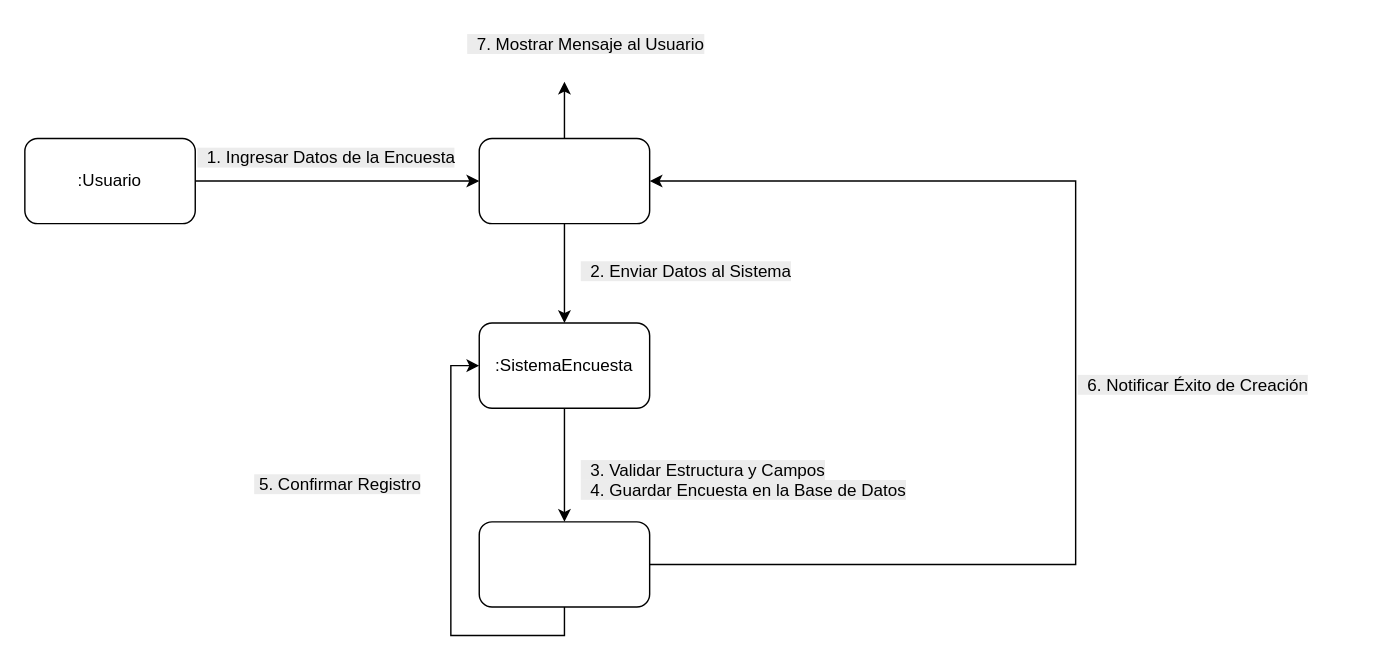
Image size: 1385x672. Some labels were removed from this diagram. The centre of each missing label's shape, as x and y in pixels:
:BD_Encuestas: point (564, 563)
:UI_Encuesta: point (564, 180)
